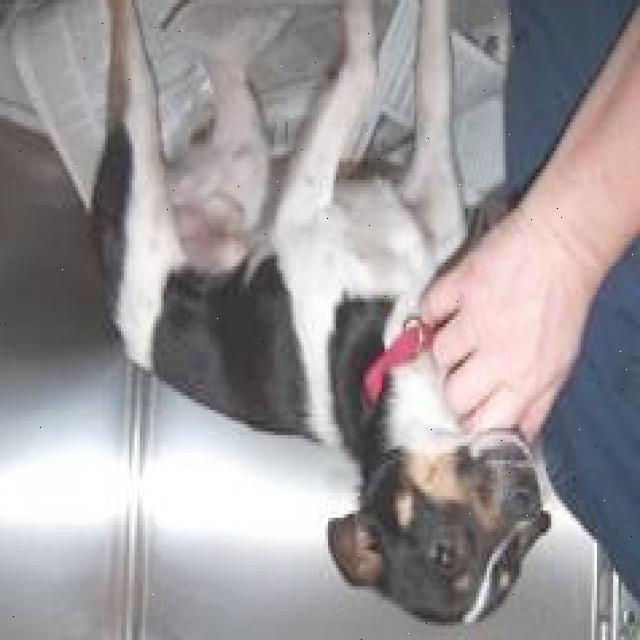Dog: (325, 428, 558, 634)
